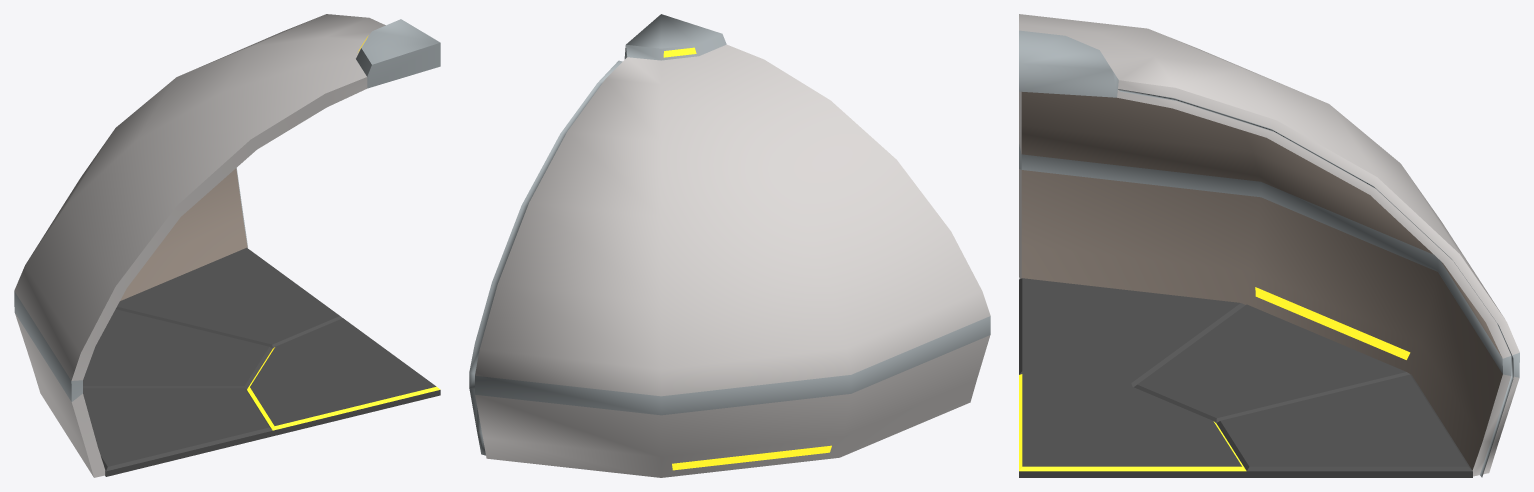
Rendered from quarter_dome_solid.glb.
3 views of the same model, side by side, from view 1: azimuth 30°, elevation 25°; view 2: azimuth 150°, elevation 25°; view 3: azimuth 270°, elevation 25° (orthographic). The views are drawn at different scales.
Parts seen in each view (by area): view 1: quarter_solid, floor_quarter; view 2: quarter_solid, quarter_solid_connector; view 3: quarter_solid, floor_quarter, quarter_solid_connector.
Part boxes in pixels (x1,y1,x2,y2): quarter_solid: (14, 14, 440, 477); floor_quarter: (83, 247, 440, 476); quarter_solid: (475, 14, 990, 477); quarter_solid_connector: (469, 60, 622, 455); quarter_solid: (1019, 14, 1519, 476); floor_quarter: (1019, 278, 1472, 477); quarter_solid_connector: (1118, 89, 1513, 477).
Size of what is drawn, in the model's own units: 2.96 by 2.67 by 2.93.
